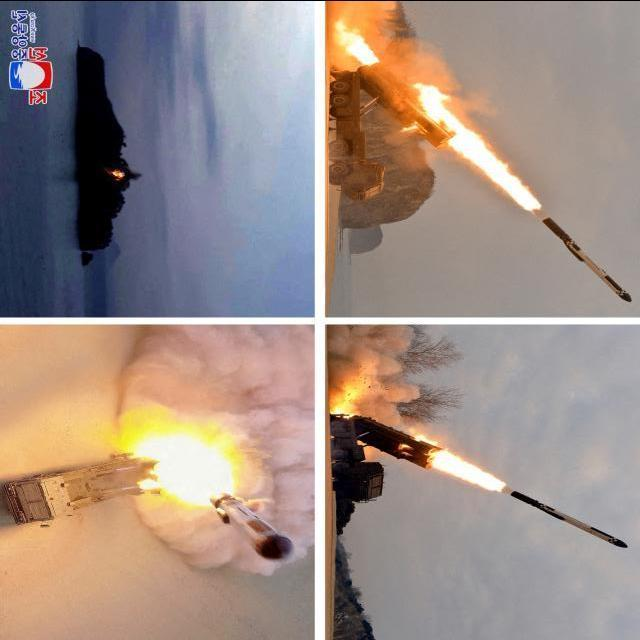missile: (490, 483, 640, 552), (540, 210, 640, 305)
